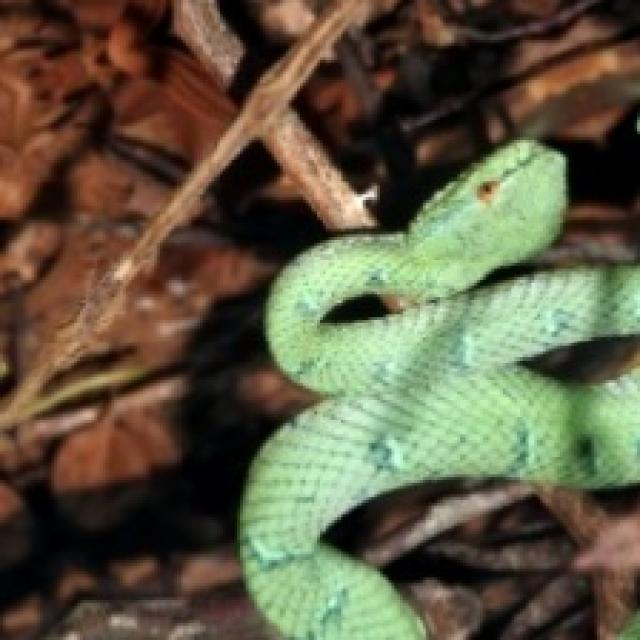north ph temple pitviper: (240, 140, 637, 637)
